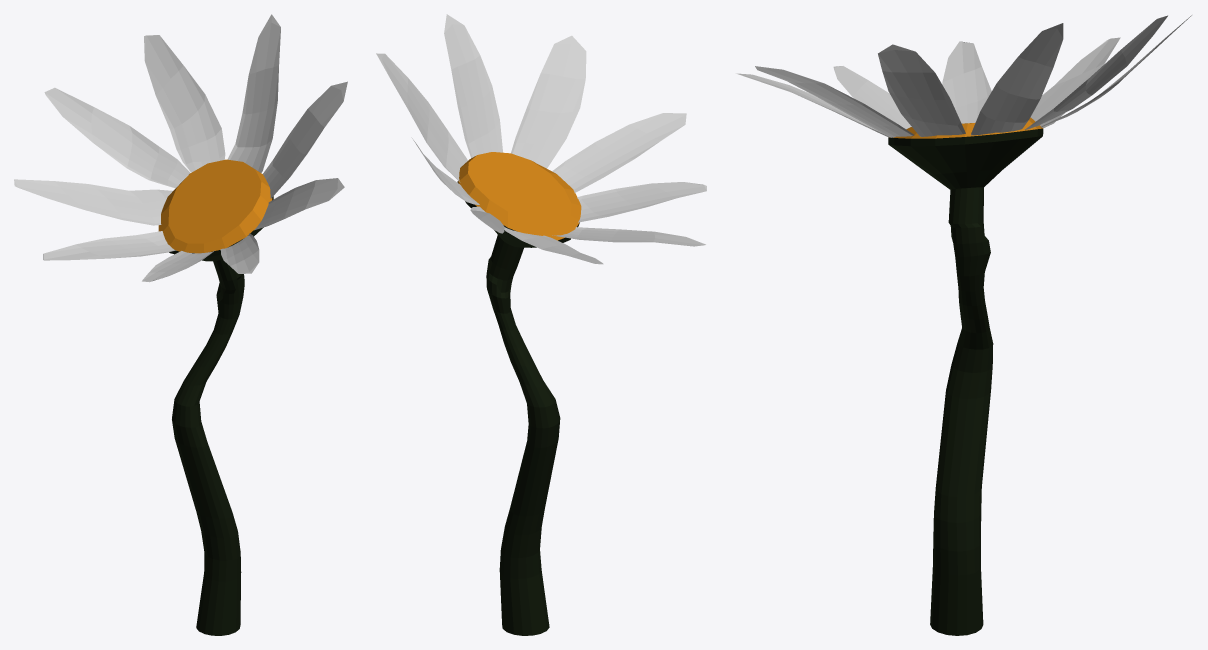
3 views of the same model, side by side, from view 1: azimuth 30°, elevation 25°; view 2: azimuth 150°, elevation 25°; view 3: azimuth 270°, elevation 25° (orthographic). The views are drawn at different scales.
Visible parts, largest first — view 1: Flower, Stem; view 2: Flower, Stem; view 3: Stem, Flower.
Boxes of the visible parts, x1,y1,x2,y2 form: Flower: (14, 14, 347, 282); Stem: (158, 159, 273, 635); Flower: (376, 14, 706, 264); Stem: (457, 152, 581, 635); Stem: (888, 117, 1043, 635); Flower: (736, 15, 1191, 137).
Bounding box in the file's own units: 4.2 × 8.07 × 5.09.
